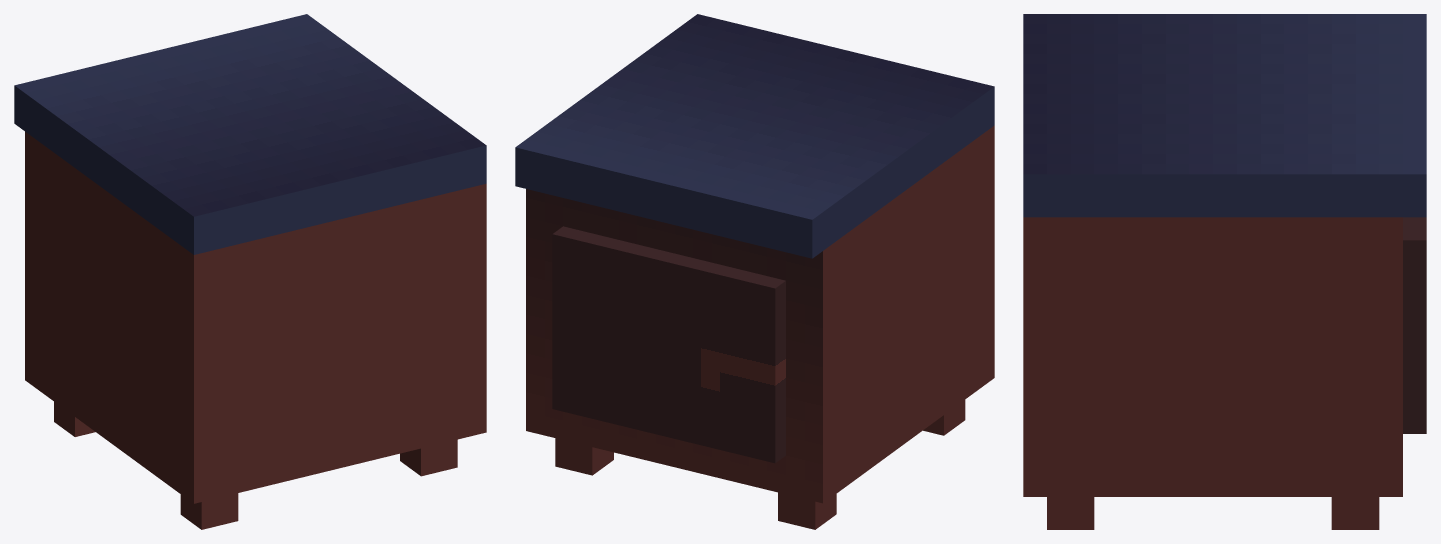
Rendered from KitchenCloset.fbx.
3 renders of one model, left to right at view 1: azimuth 30°, elevation 25°; view 2: azimuth 150°, elevation 25°; view 3: azimuth 270°, elevation 25°, orthographic. The views are drawn at different scales.
Parts seen in each view (by area): view 1: cube_4, cube_5, cube_3, cube_1, cube_2; view 2: cube_4, cube_5, cube_6, cube_2, cube, cube_3; view 3: cube_4, cube_5, cube_6, cube, cube_1.
Part boxes in pixels (<box>): cube_4: <box>25,131,486,503</box>; cube_5: <box>14,14,486,254</box>; cube_3: <box>180,493,238,529</box>; cube_1: <box>400,439,457,476</box>; cube_2: <box>54,402,95,436</box>; cube_4: <box>526,125,994,503</box>; cube_5: <box>515,14,994,258</box>; cube_6: <box>552,226,785,463</box>; cube_2: <box>778,492,836,529</box>; cube: <box>555,438,613,475</box>; cube_3: <box>923,400,965,435</box>; cube_4: <box>1023,217,1402,496</box>; cube_5: <box>1023,14,1426,217</box>; cube_6: <box>1403,217,1426,433</box>; cube: <box>1331,497,1379,529</box>; cube_1: <box>1047,497,1094,529</box>.
Size of the model in its own units: 100 by 106 by 106.
2 materials, 2 textured.
